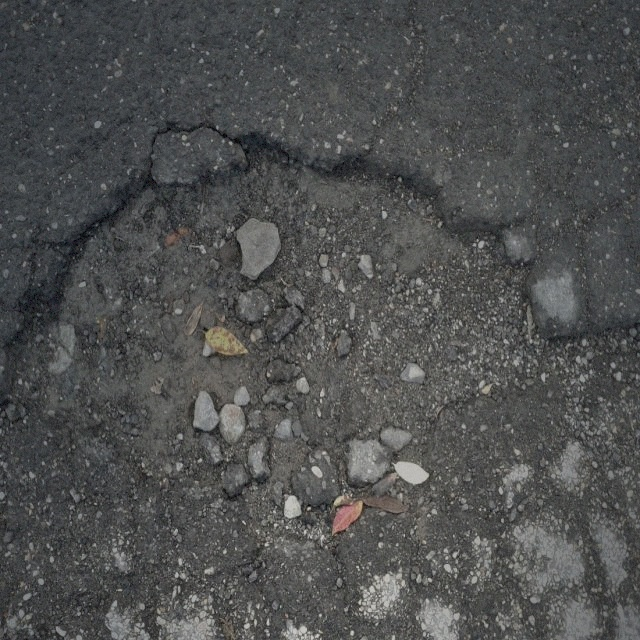pothole: (46, 108, 556, 517)
